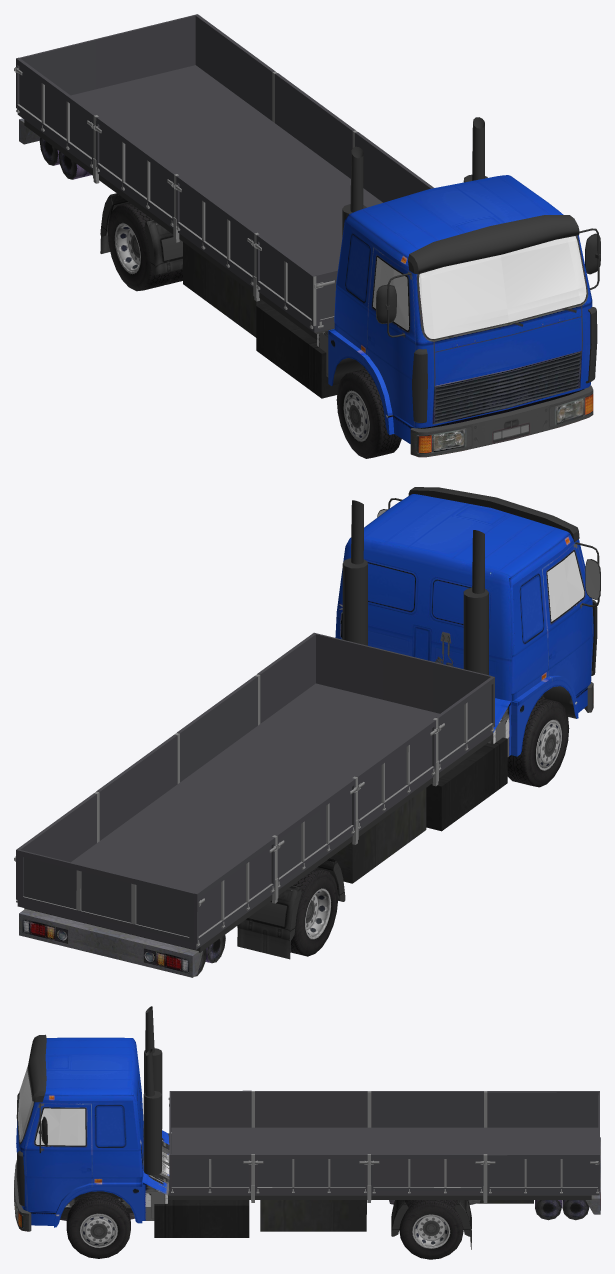
The model's file is trucks.glb.
3 renders of one model, top to bottom at view 1: azimuth 30°, elevation 25°; view 2: azimuth 150°, elevation 25°; view 3: azimuth 270°, elevation 25°, orthographic. The views are drawn at different scales.
Visible parts, largest first — view 1: model_83, model_93.001, FR, RR; view 2: model_83, FR, RR, model_93.001; view 3: model_83, FL, RL, model_93.001.
Boxes of the visible parts, x1,y1,x2,y2 form: model_83: (14, 14, 600, 457); model_93.001: (373, 236, 586, 338); FR: (336, 369, 401, 458); RR: (108, 202, 182, 291); model_83: (14, 487, 600, 977); FR: (507, 697, 569, 787); RR: (290, 868, 338, 956); model_93.001: (547, 551, 584, 621); model_83: (14, 1006, 600, 1249); FL: (66, 1193, 130, 1258); RL: (399, 1200, 463, 1259); model_93.001: (18, 1066, 85, 1145).
Bounding box in the file's own units: 4.65 × 5.44 × 14.56.
4 materials, 2 textured.
